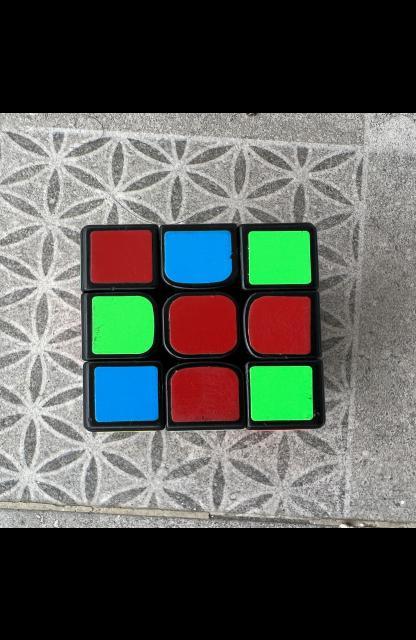Blue: (164, 229, 232, 283), (94, 364, 158, 421)
Green: (92, 294, 154, 354), (249, 364, 313, 420), (248, 230, 312, 283)
Red: (169, 294, 238, 354), (170, 366, 239, 421), (248, 295, 310, 354), (90, 229, 153, 282)
